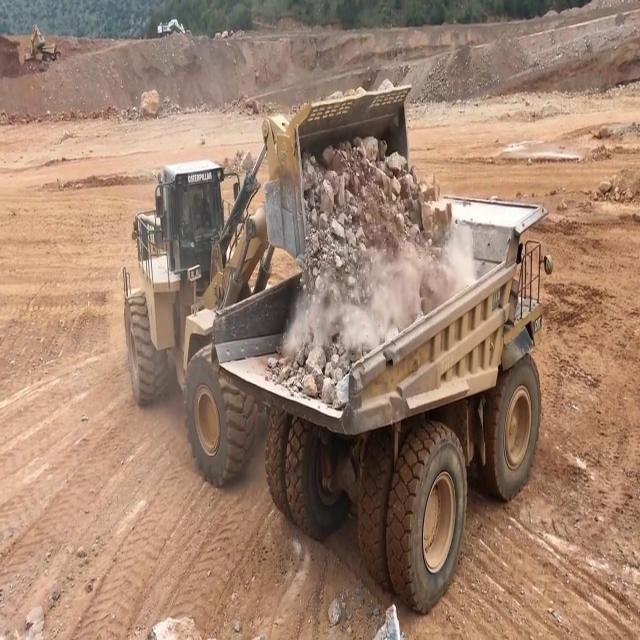Dump Truck: (207, 197, 553, 615)
Loader: (119, 78, 418, 410)
